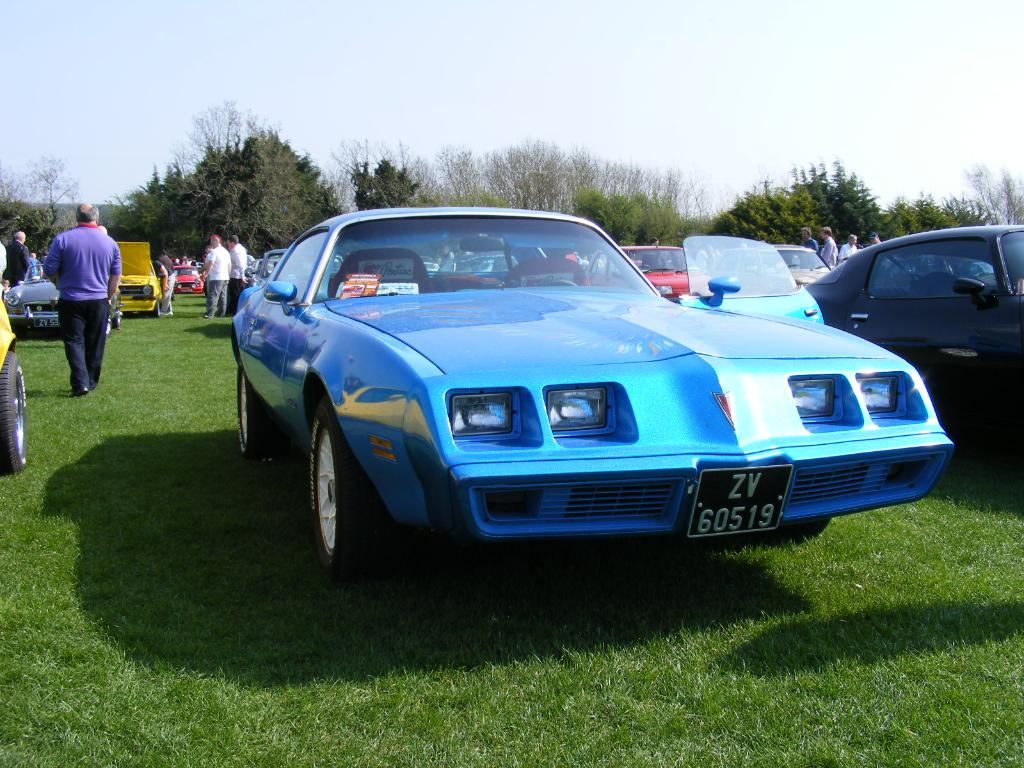Car: (218, 213, 938, 581), (801, 224, 1022, 406), (7, 263, 119, 335), (587, 243, 691, 299), (111, 238, 165, 321), (776, 246, 832, 291), (173, 263, 201, 294)
